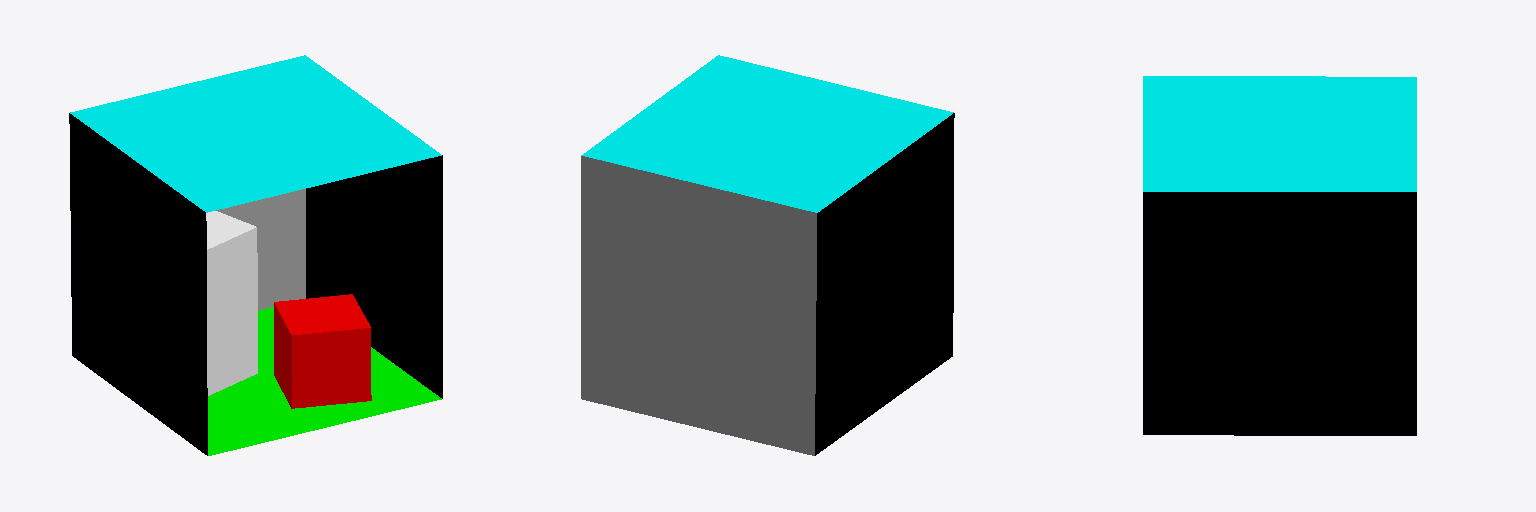
Rendered from textured-cornell-box.obj.
3 renders of one model, left to right at view 1: azimuth 30°, elevation 25°; view 2: azimuth 150°, elevation 25°; view 3: azimuth 270°, elevation 25°, orthographic.
Parts seen in each view (by area): view 1: left_wall, ceiling, right_wall, floor, short_box, tall_box, back_wall; view 2: back_wall, left_wall, ceiling; view 3: right_wall, ceiling.
Part boxes in pixels (left/top/right/bottom): left_wall: left=69, top=113, right=207, bottom=455; ceiling: left=70, top=55, right=441, bottom=212; right_wall: left=306, top=155, right=442, bottom=398; floor: left=208, top=307, right=441, bottom=455; short_box: left=274, top=294, right=371, bottom=408; tall_box: left=206, top=211, right=257, bottom=395; back_wall: left=216, top=189, right=305, bottom=310; back_wall: left=581, top=156, right=816, bottom=455; left_wall: left=815, top=113, right=954, bottom=455; ceiling: left=581, top=55, right=953, bottom=212; right_wall: left=1143, top=192, right=1416, bottom=435; ceiling: left=1143, top=76, right=1416, bottom=191.
Bounding box in the file's own units: 5.56 × 5.49 × 5.6.